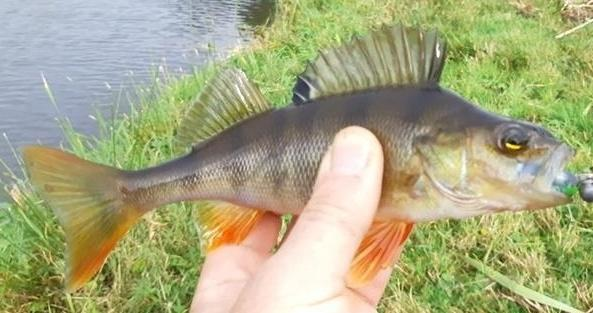Perch: (21, 20, 575, 290)
